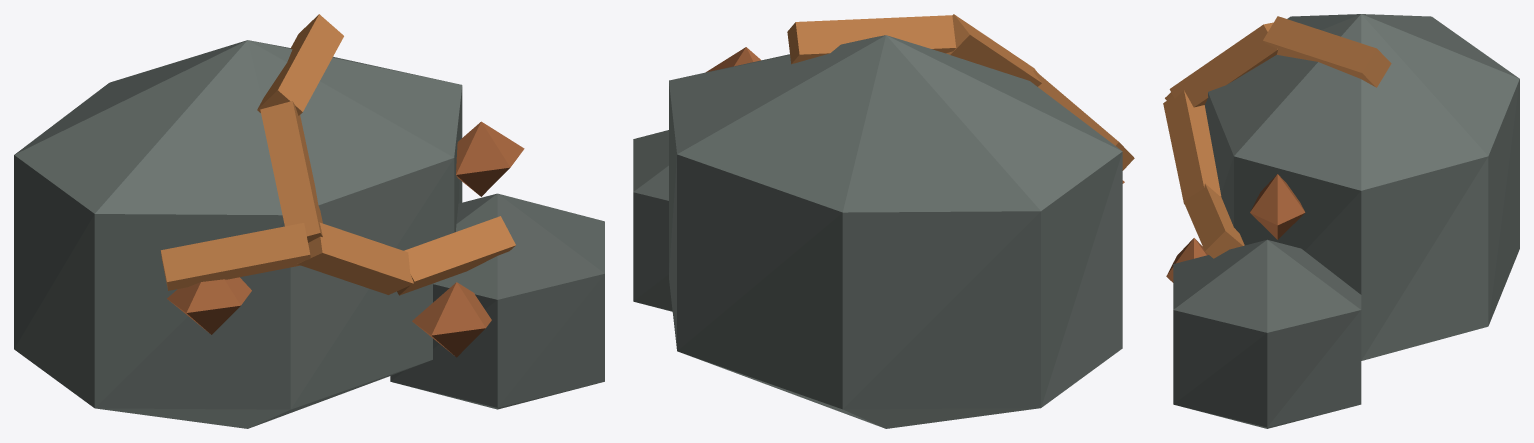
Rendered from copper_ore.glb.
3 renders of one model, left to right at view 1: azimuth 30°, elevation 25°; view 2: azimuth 150°, elevation 25°; view 3: azimuth 270°, elevation 25°, orthographic. The views are drawn at different scales.
Visible parts, largest first — view 1: copper_ore; view 2: copper_ore; view 3: copper_ore.
Boxes of the visible parts, box(x1,y1,x2,y2) form: copper_ore: box(14, 14, 604, 428); copper_ore: box(633, 14, 1134, 428); copper_ore: box(1163, 14, 1519, 428).
Bounding box in the file's own units: 0.4812 × 0.36 × 0.3417.
